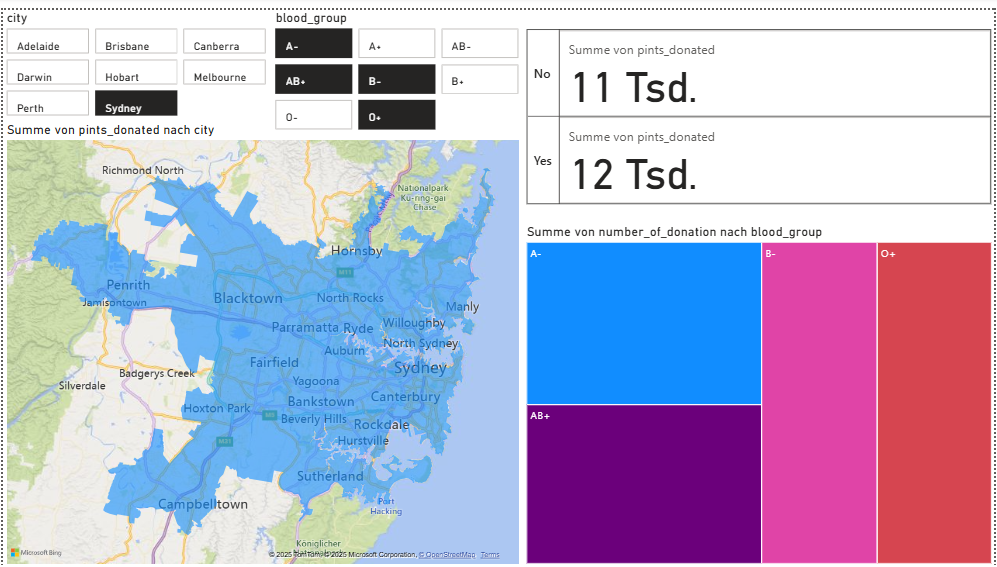

Layout of this report page (visuals, bound fields, positions):
{"tool":"powerbi","page":{"name":"Donation Analytics","canvas":[1280,720],"ordinal":1},"visuals":[{"type":"filledMap","fields":{"Category":["blood_donor_dataset.city"]},"box":[0,143.5,671,575.8],"z":0},{"type":"advancedSlicerVisual","fields":{"Values":["blood_donor_dataset.city"]},"box":[0,0,346.8,143.5],"z":1000},{"type":"treemap","fields":{"Group":["blood_donor_dataset.blood_group"],"Values":["Sum(blood_donor_dataset.number_of_donation)"]},"box":[671,275.8,609.7,443.5],"z":2000},{"type":"cardVisual","fields":{"Rows":["blood_donor_dataset.availability"],"Data":["Sum(blood_donor_dataset.pints_donated)"]},"box":[671,0,609.7,275.8],"z":3000},{"type":"advancedSlicerVisual","fields":{"Values":["blood_donor_dataset.blood_group"]},"box":[346.8,0,324.2,161.3],"z":3001}]}

Visuals, with their boxes in screenshot pixels (x1, y1, x2, y2), scaled from the page's 1280x720 canvas onto the 997x567 screenshot:
filledMap - blood_donor_dataset.city: bbox(0, 113, 523, 566)
advancedSlicerVisual - blood_donor_dataset.city: bbox(0, 0, 270, 113)
treemap - blood_donor_dataset.blood_group x Sum(blood_donor_dataset.number_of_donation): bbox(523, 217, 996, 566)
cardVisual - blood_donor_dataset.availability x Sum(blood_donor_dataset.pints_donated): bbox(523, 0, 996, 217)
advancedSlicerVisual - blood_donor_dataset.blood_group: bbox(270, 0, 523, 127)
